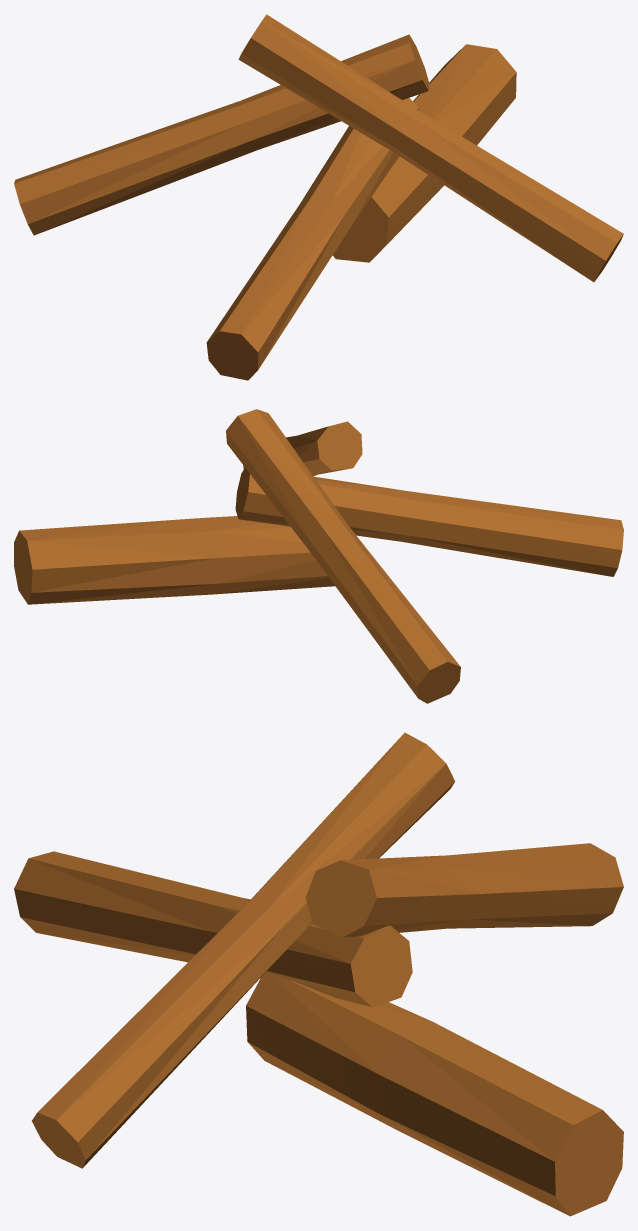
Rendered from campfire.obj.
The picture shows the model from 3 angles, top to bottom: view 1: azimuth 30°, elevation 25°; view 2: azimuth 150°, elevation 25°; view 3: azimuth 270°, elevation 25°; orthographic projection. The views are drawn at different scales.
Parts seen in each view (by area): view 1: CampFire; view 2: CampFire; view 3: CampFire.
Part boxes in pixels (x1=…): CampFire: x1=14, y1=14, x2=623, y2=380; CampFire: x1=14, y1=409, x2=623, y2=703; CampFire: x1=14, y1=732, x2=623, y2=1216.
Size of the model in its own units: 1.09 by 0.4674 by 0.8635.
